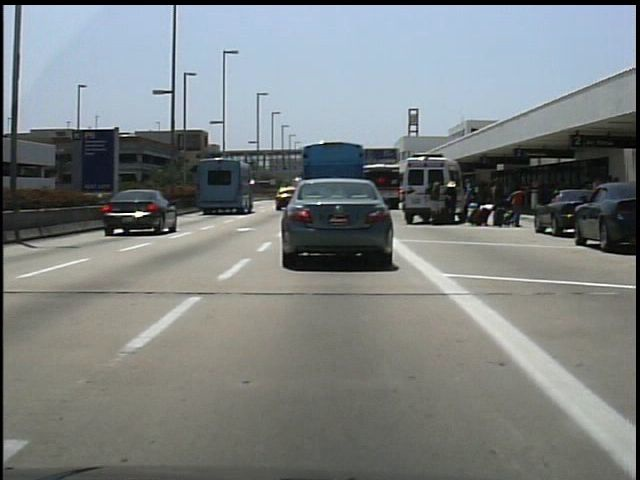person: (443, 175, 465, 227), (424, 172, 445, 224), (481, 178, 503, 227), (507, 181, 529, 230)
